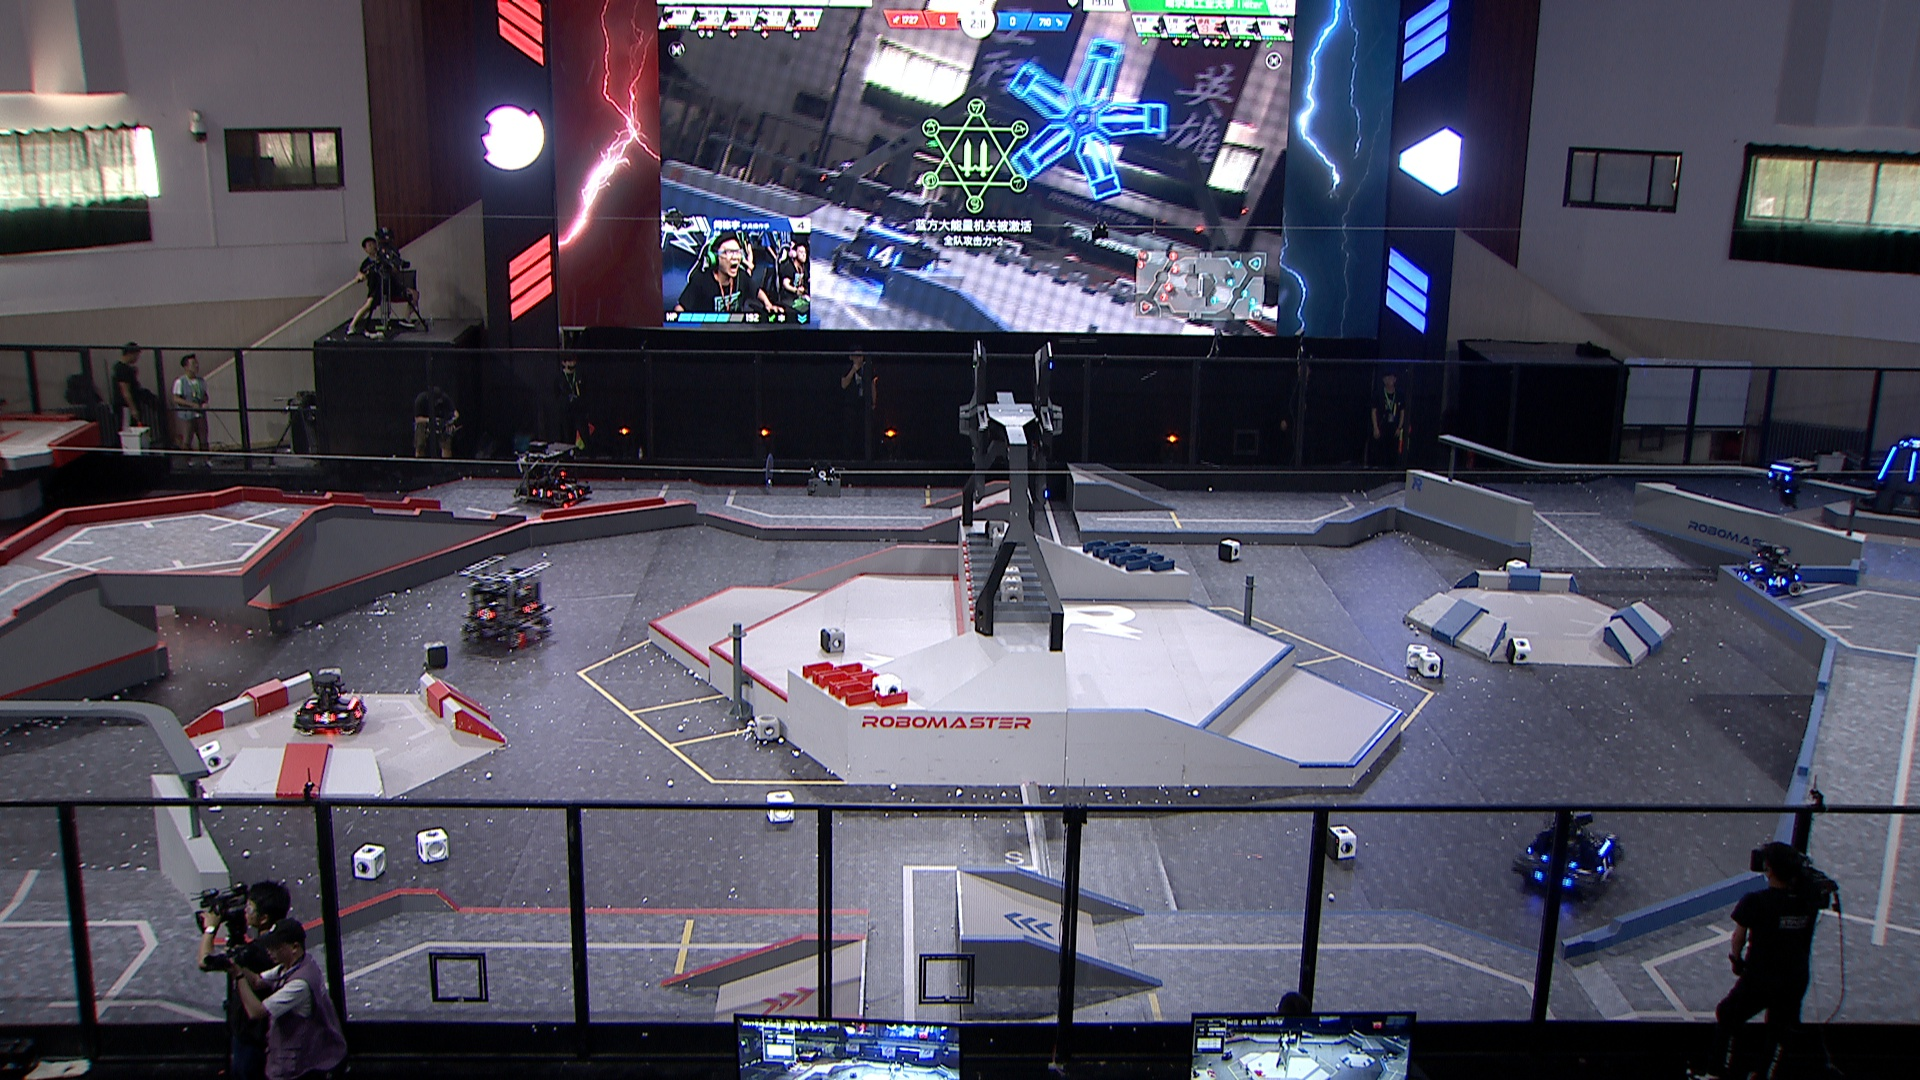armor: (1878, 446, 1898, 481), (311, 709, 339, 727), (1907, 450, 1917, 485), (476, 608, 498, 622), (1768, 469, 1789, 484), (1768, 575, 1789, 589), (520, 603, 538, 617), (1596, 858, 1614, 873), (301, 698, 318, 712), (1749, 560, 1764, 575), (531, 488, 553, 498), (566, 489, 584, 501), (352, 703, 367, 717), (1902, 439, 1920, 450), (556, 481, 576, 491), (1738, 570, 1750, 583)
base: (1851, 438, 1920, 522)
car: (1510, 808, 1625, 905), (458, 555, 558, 651), (517, 440, 593, 510), (289, 671, 367, 736), (1735, 541, 1809, 597)
ignore: (833, 187, 955, 295), (818, 166, 844, 196)
watcher: (1766, 455, 1818, 509)
